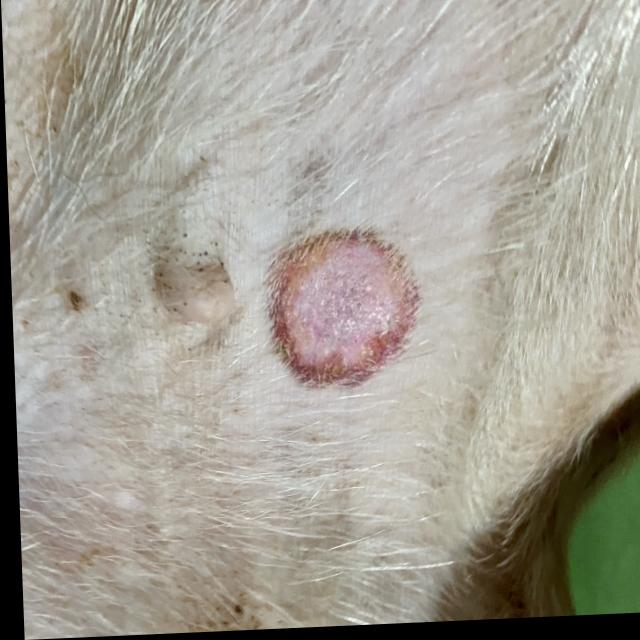ringworm: (255, 201, 422, 422)
